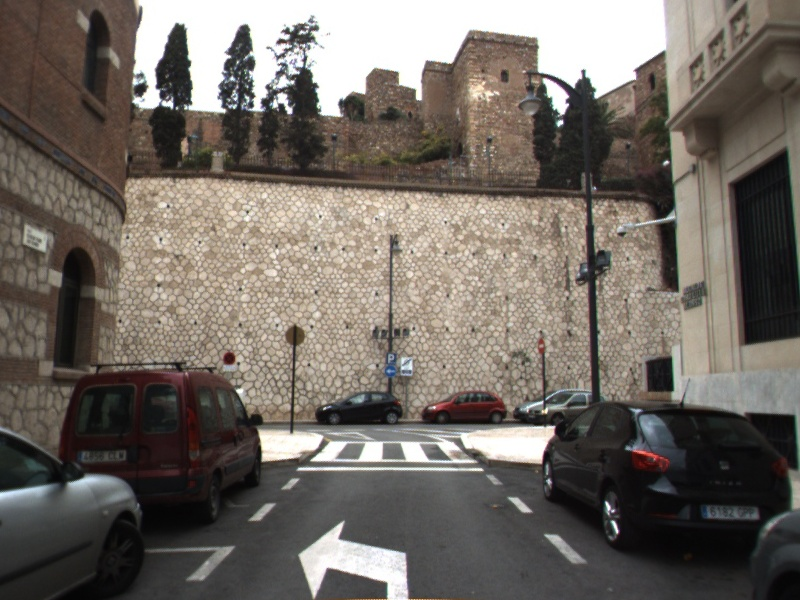LEFT: (296, 516, 411, 600)
